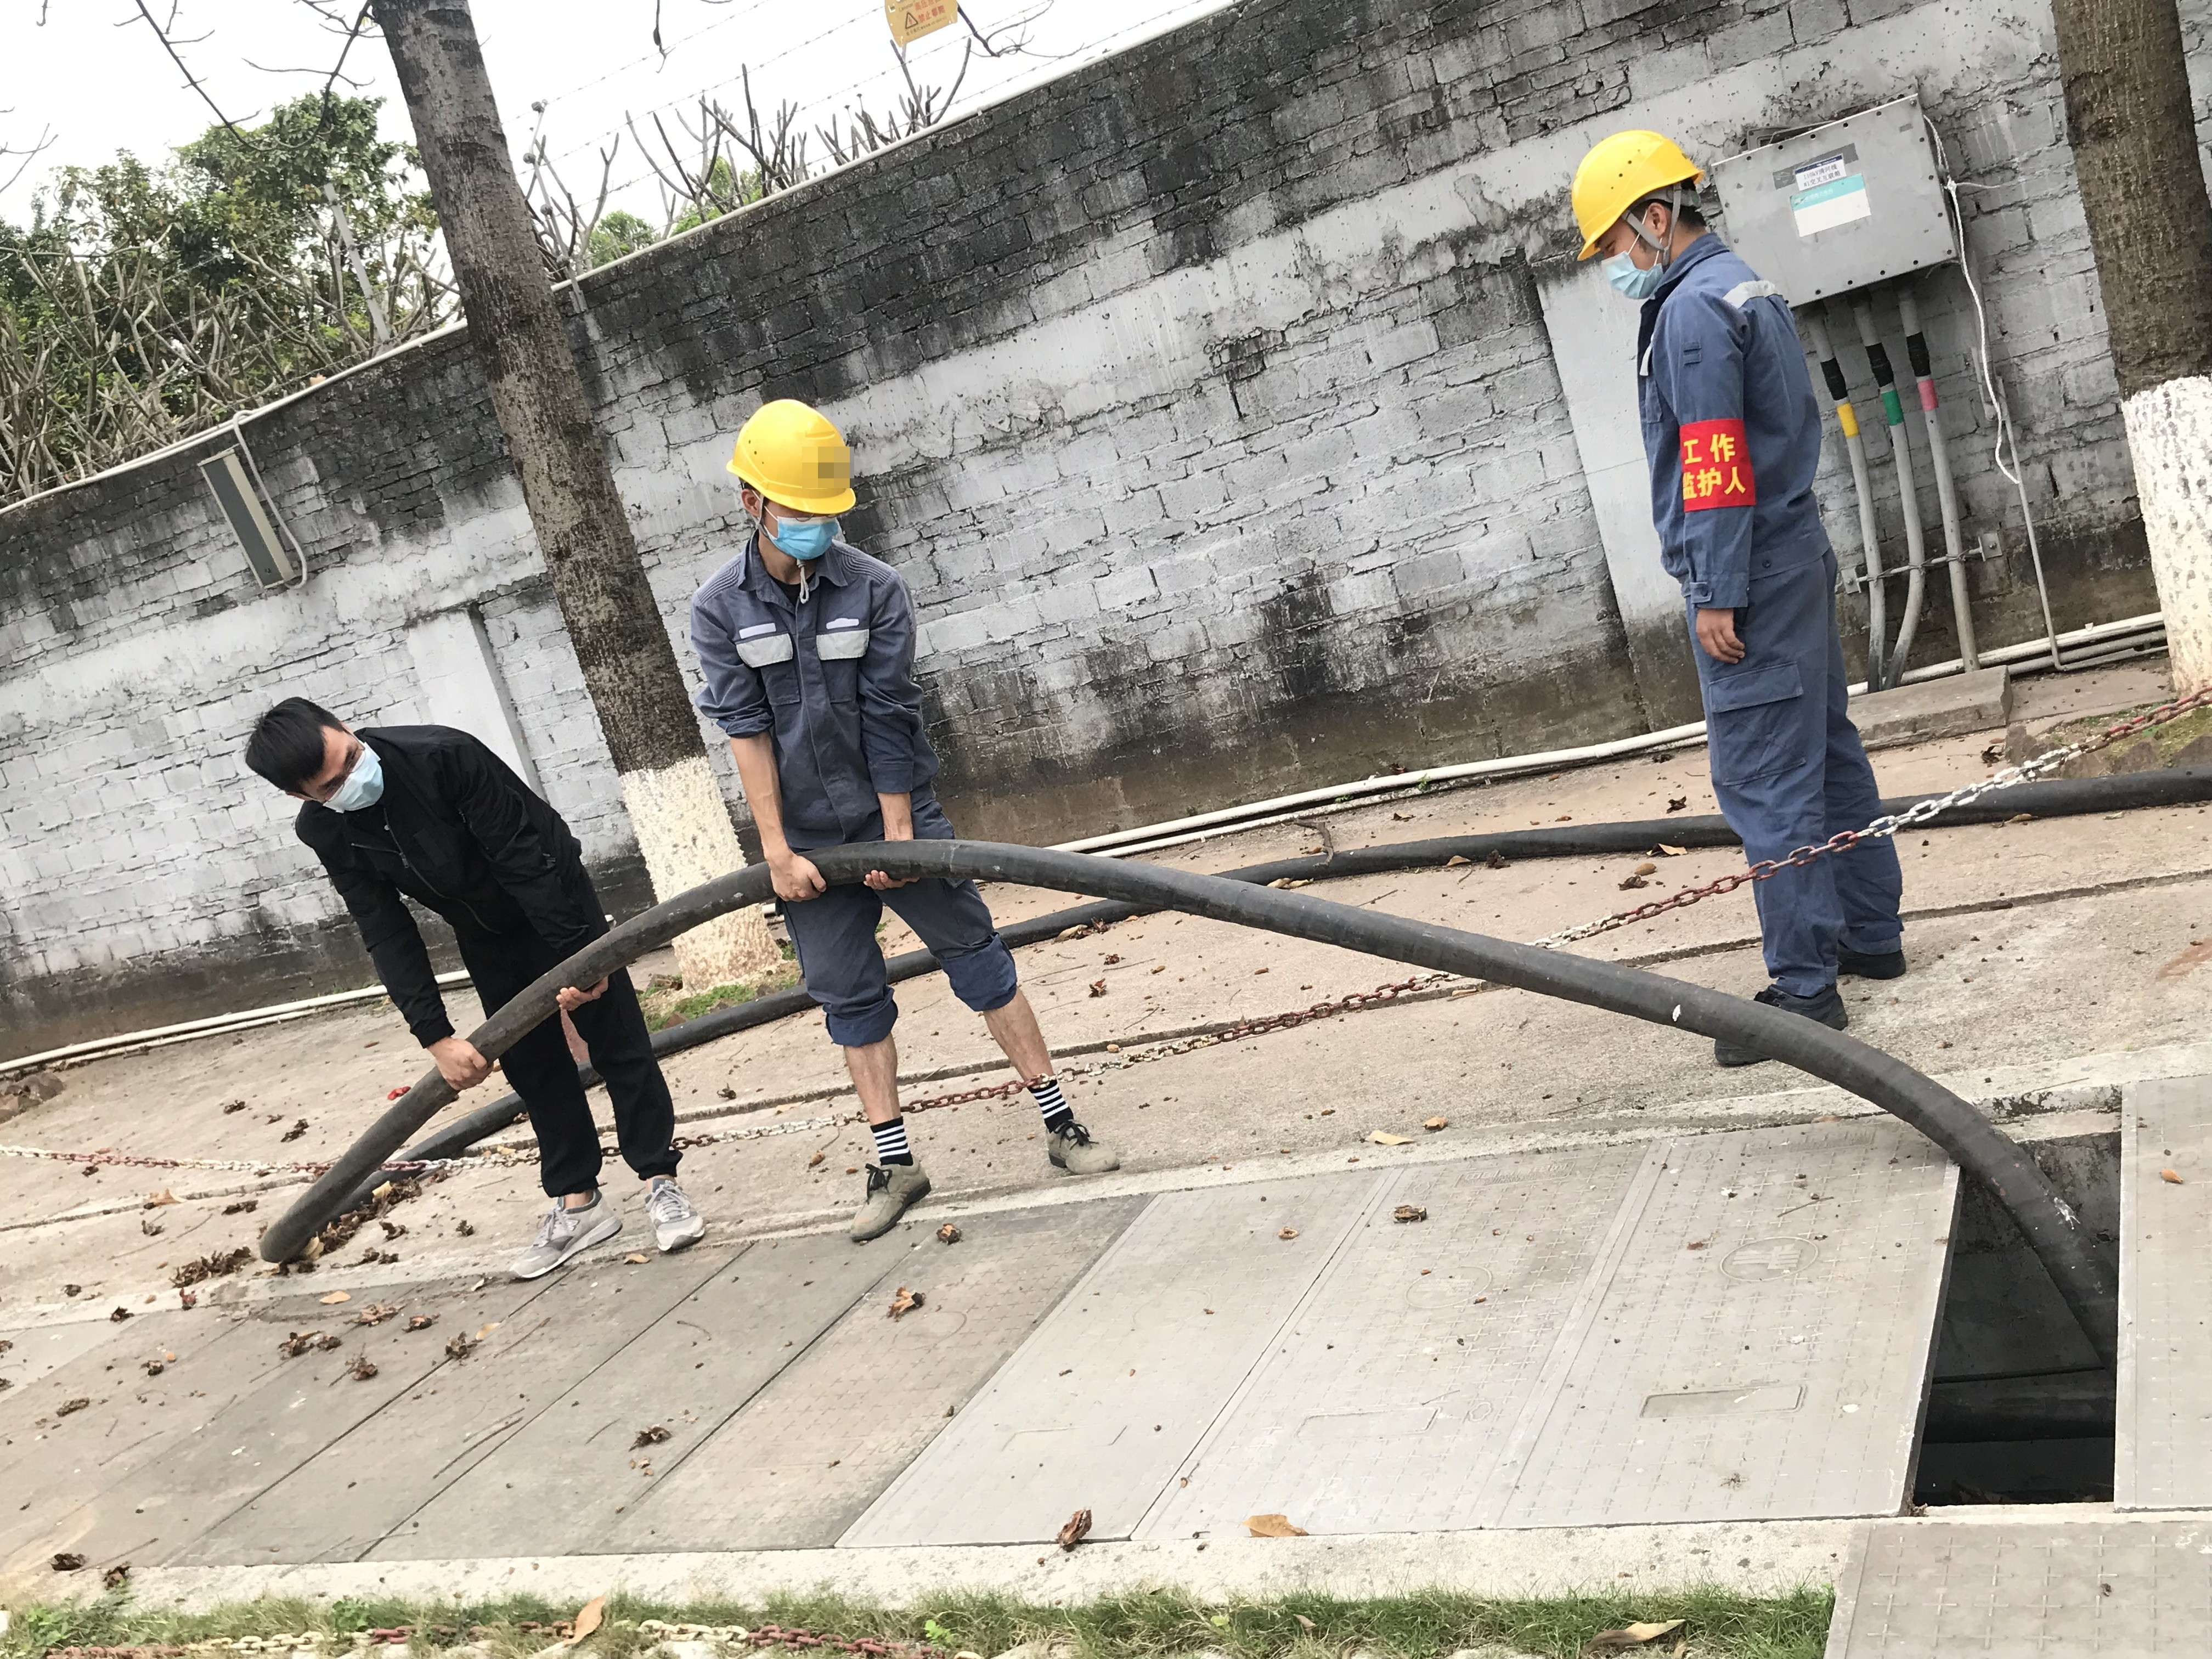downcloth: (463, 884, 669, 1199)
downsuit: (1656, 586, 1895, 1004), (782, 847, 1010, 1011)
upcloth: (298, 728, 563, 941)
upsuit: (1632, 254, 1843, 572), (707, 558, 930, 830)
wrongbottom: (826, 985, 1069, 1173)
wrongtop: (714, 728, 834, 889)
